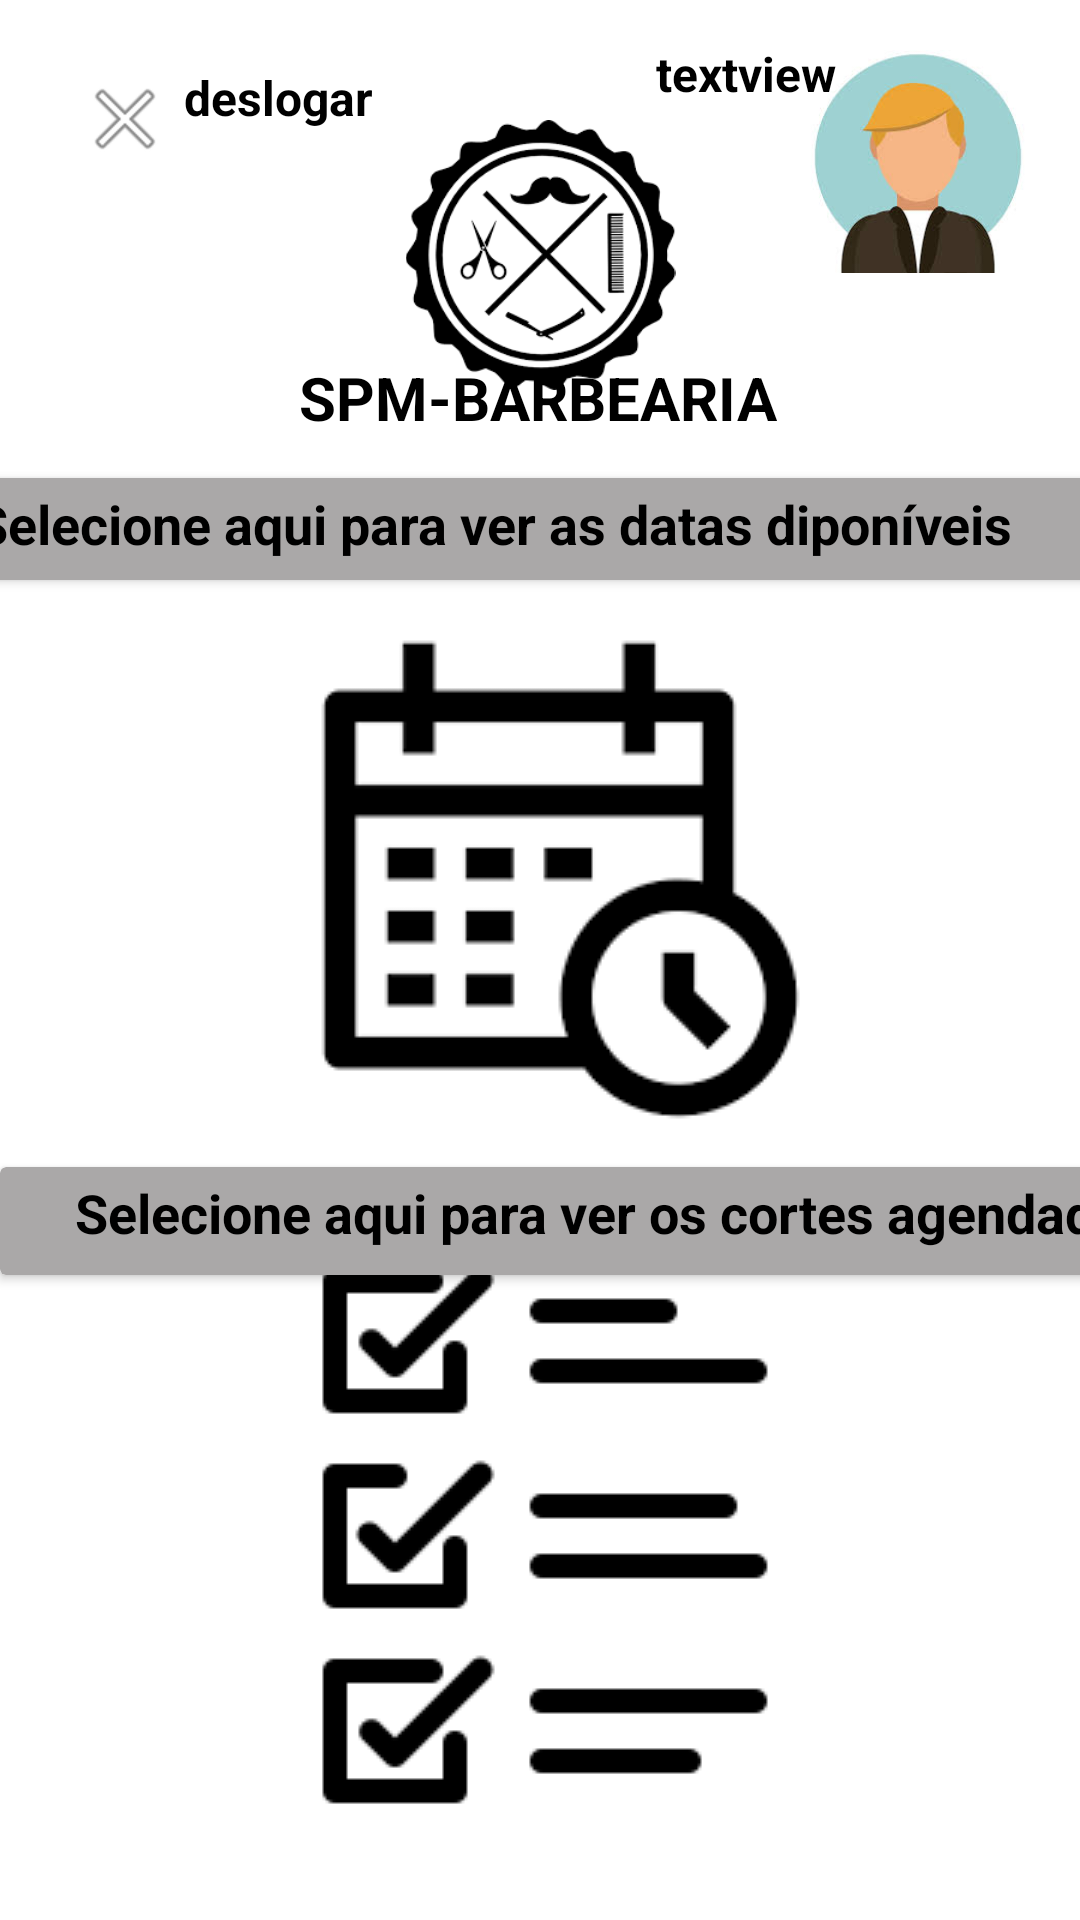

Where to tap for icons on this 1080px x 1920px app screen, as [x,y]:
close clear cancel: [152,114]
images homem: [911,163]
